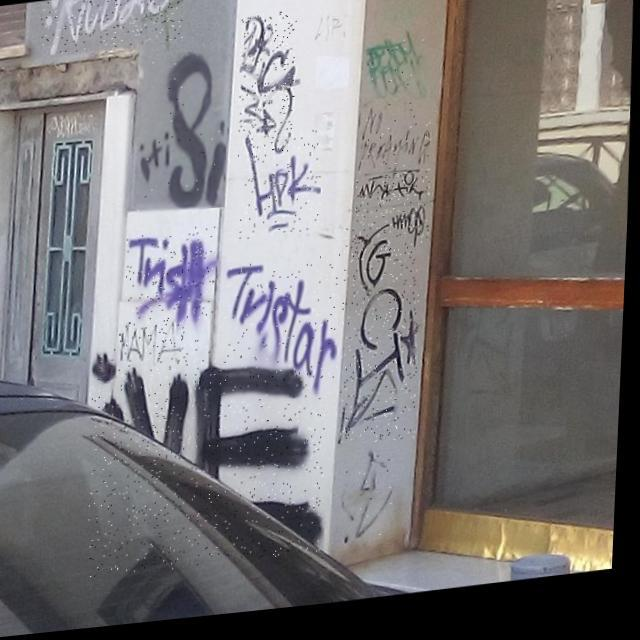-: (88, 330, 334, 582), (339, 223, 427, 454), (222, 260, 344, 412), (134, 56, 232, 221), (126, 229, 220, 332), (240, 136, 326, 245), (236, 16, 299, 162), (39, 0, 184, 56), (339, 455, 406, 549), (355, 178, 433, 258), (359, 108, 434, 180), (366, 44, 434, 104), (120, 325, 188, 371)
